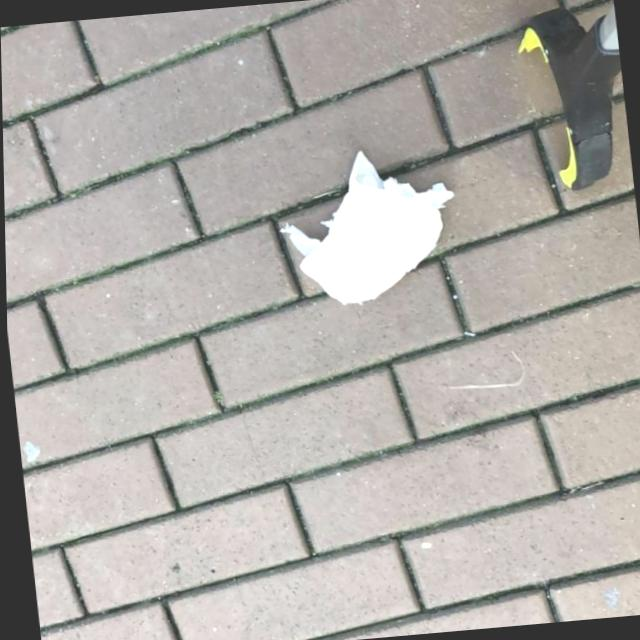Paper: (269, 142, 465, 312)
